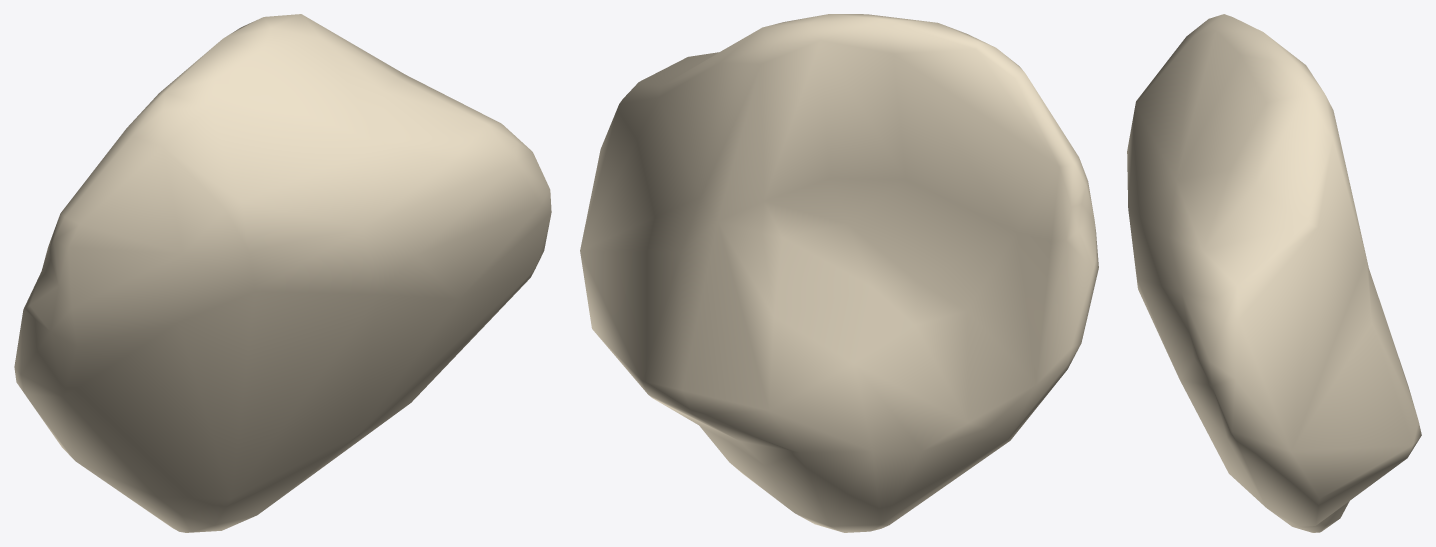
Rendered from patella-r.glb.
The picture shows the model from 3 angles, left to right: view 1: azimuth 30°, elevation 25°; view 2: azimuth 150°, elevation 25°; view 3: azimuth 270°, elevation 25°; orthographic projection. The views are drawn at different scales.
Parts seen in each view (by area): view 1: Patella.r; view 2: Patella.r; view 3: Patella.r.
Boxes of the visible parts, left/top/right/bottom form: Patella.r: left=14, top=14, right=551, bottom=532; Patella.r: left=580, top=14, right=1098, bottom=532; Patella.r: left=1127, top=14, right=1421, bottom=532.
Size of the model in its own units: 0.0432 by 0.0409 by 0.0228.
